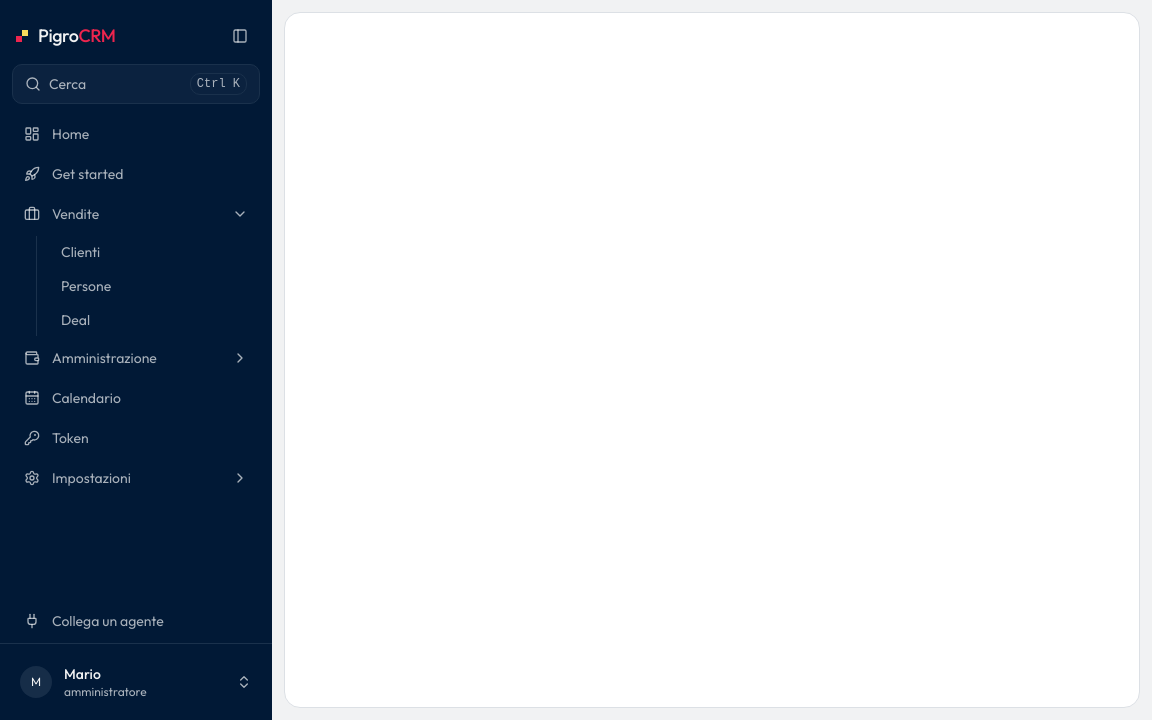
Test case: AppShell › opens the search palette from the sidebar field
What coordinates should you click on to do the following:
click the button "Cerca Ctrl K"
I would click on:
 (136, 84)
Its box is [12,64,260,104].
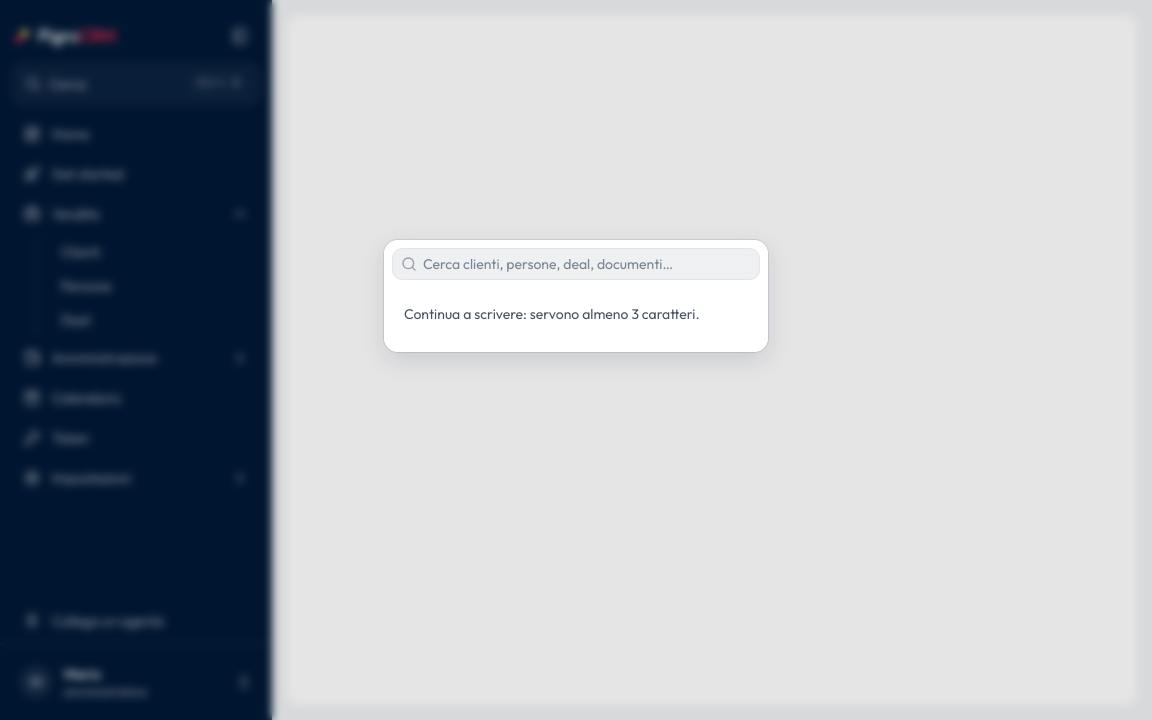
Result: the dialog is shown at [384,240,768,352]
